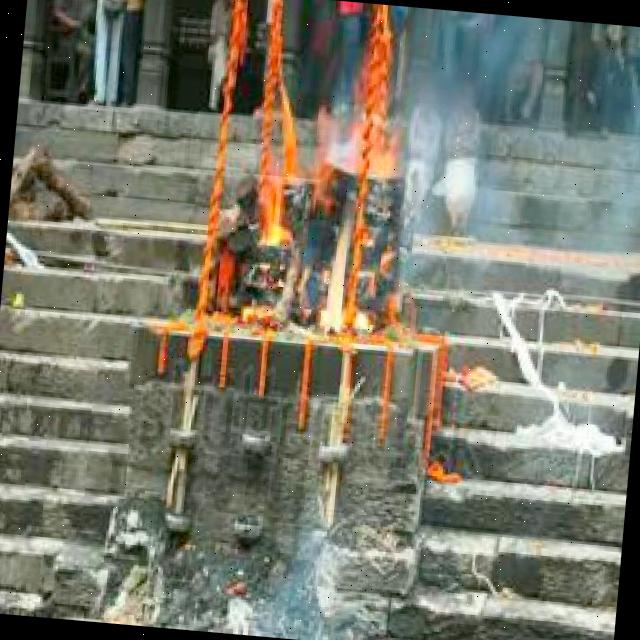fire: (238, 84, 390, 342)
